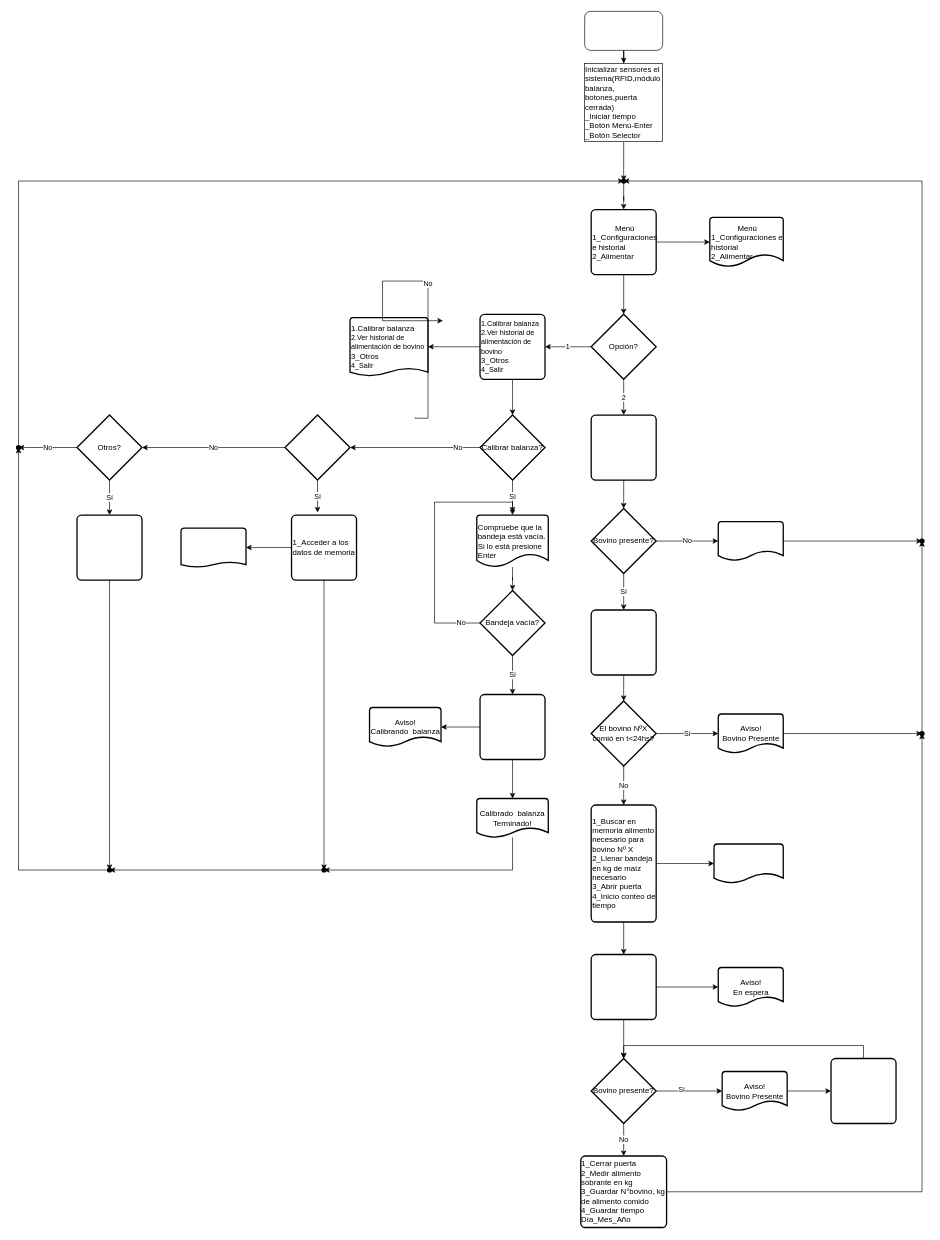
Some shapes in this 940 by 1240 pixel diagram are drawn without their labels. Here are the shapes that lost their labels. From the top down, the centre of each, then its label:
At [623,30]: "Inicio".
At [317,447]: "Ver Historial?".
At [623,447]: "Leer sensor RFID".
At [109,547]: "XXXXX".
At [213,547]: "Ver Bovino N° 1 Bovino N° 2 Bovino N° 3".
At [750,541]: "Aviso! Bovino Ausente".
At [623,642]: "1_Reconocer NºX bovino 2_Leer tiempo transcurrido de la última vez que comió".
At [512,727]: "1_Resetear valor 2_Medir balanza valor medido = 0kg".
At [748,863]: "Aviso! Cargando alimento".
At [623,987]: "Esperar un tiempo t=1h".
At [863,1091]: "Esperar un tiempo t=20min".
